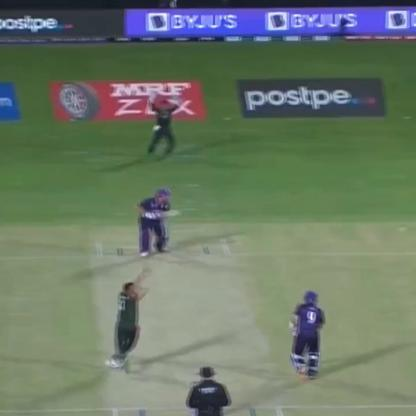pitch: (82, 236, 296, 416)
